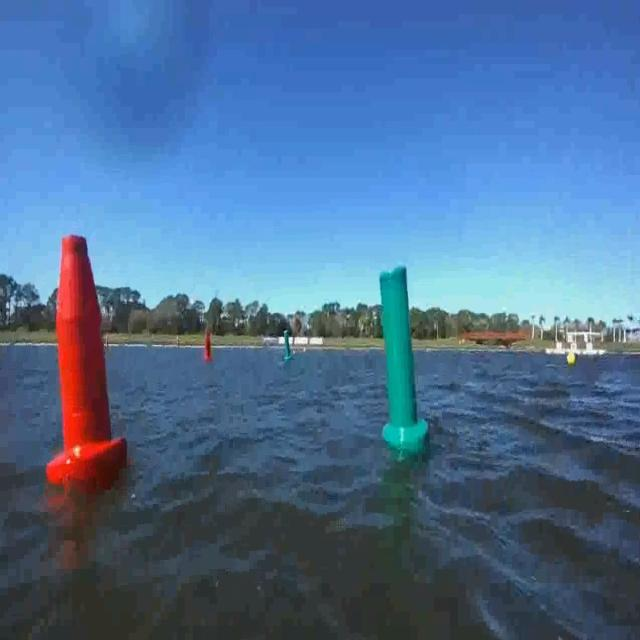green-column-buoy: (378, 263, 429, 452), (283, 331, 293, 362)
red-column-buoy: (47, 233, 131, 492), (203, 332, 214, 363)
yellow-buoy: (567, 351, 576, 367)
